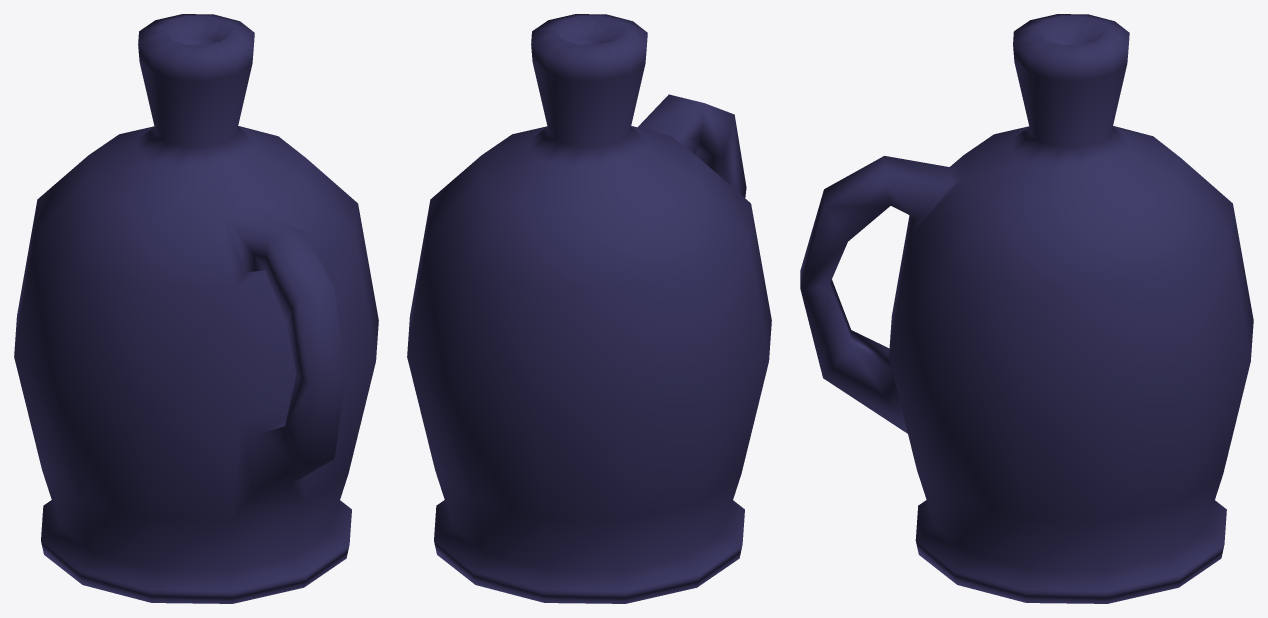
File: Jar_02.fbx
3 renders of one model, left to right at view 1: azimuth 30°, elevation 25°; view 2: azimuth 150°, elevation 25°; view 3: azimuth 270°, elevation 25°, orthographic.
Visible parts, largest first — view 1: Jar_02; view 2: Jar_02; view 3: Jar_02.
Boxes of the visible parts, x1,y1,x2,y2 form: Jar_02: [14, 14, 378, 603]; Jar_02: [407, 14, 771, 603]; Jar_02: [800, 14, 1253, 603].
Bounding box in the file's own units: 23.99 × 36.91 × 29.82.
